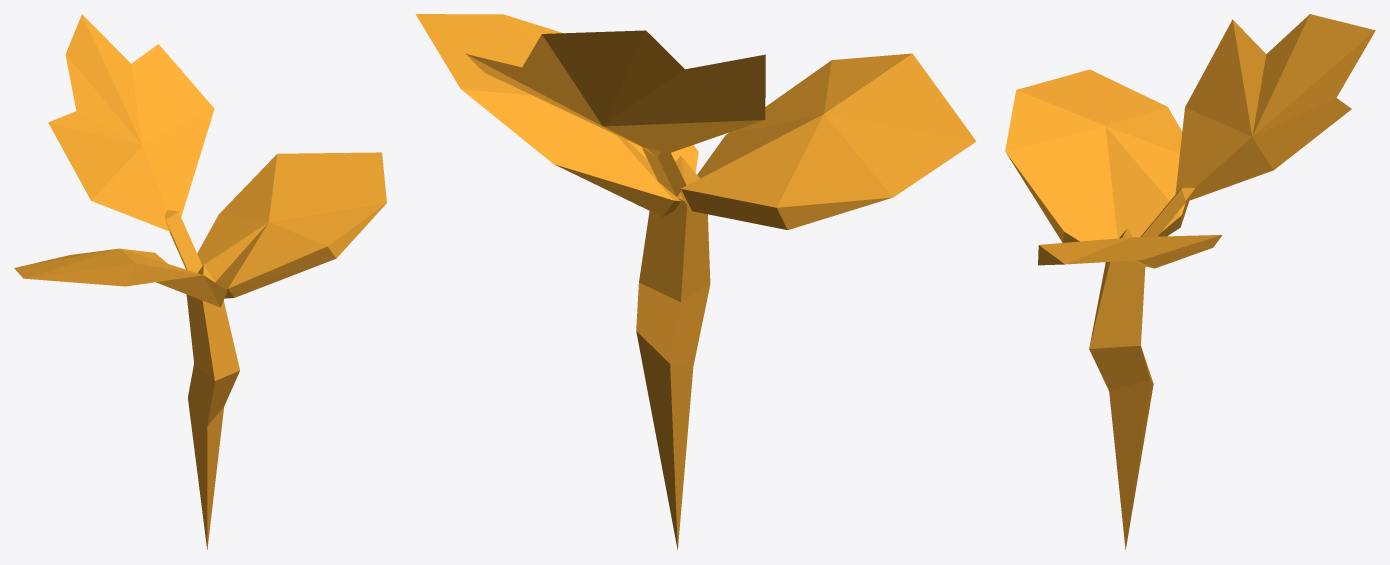
The model's file is SM_Watermelon_Plant_Sprout.fbx.
3 renders of one model, left to right at view 1: azimuth 30°, elevation 25°; view 2: azimuth 150°, elevation 25°; view 3: azimuth 270°, elevation 25°, orthographic. The views are drawn at different scales.
Parts seen in each view (by area): view 1: watermelon-plant-sprout; view 2: watermelon-plant-sprout; view 3: watermelon-plant-sprout.
Boxes of the visible parts, left/top/right/bottom form: watermelon-plant-sprout: left=14, top=14, right=386, bottom=549; watermelon-plant-sprout: left=415, top=14, right=976, bottom=550; watermelon-plant-sprout: left=1005, top=14, right=1375, bottom=549.
Bounding box in the file's own units: 0.158 × 0.1813 × 0.1187.
